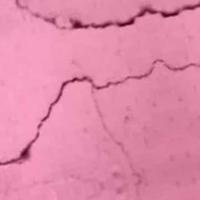crack: (0, 3, 198, 166)
